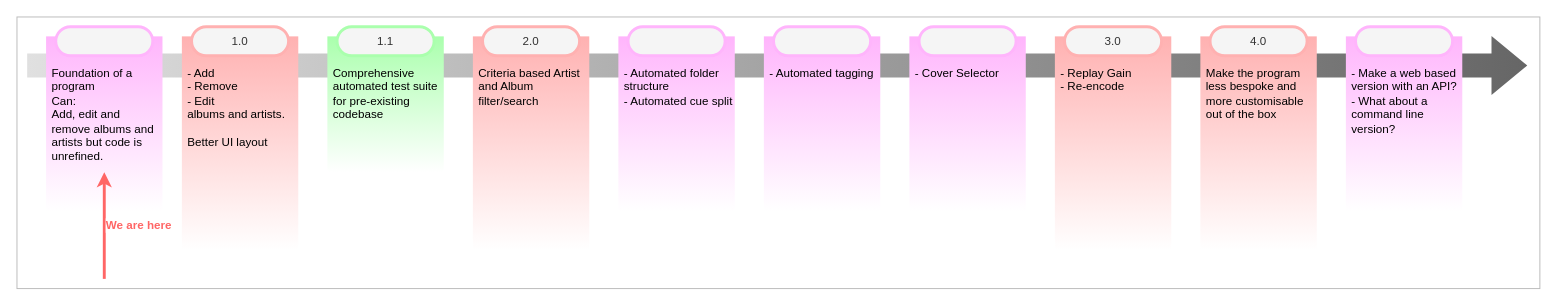
This 1557x306 diagram has some shape labels left out. The centre of each missing label's shape, as x and y in pixels:
1.0.alpha.1: (x=104, y=41)
3.0.alpha.1: (x=676, y=41)
3.0.alpha.2: (x=822, y=41)
3.0.alpha.3: (x=967, y=41)
im.considering.it: (x=1404, y=41)
